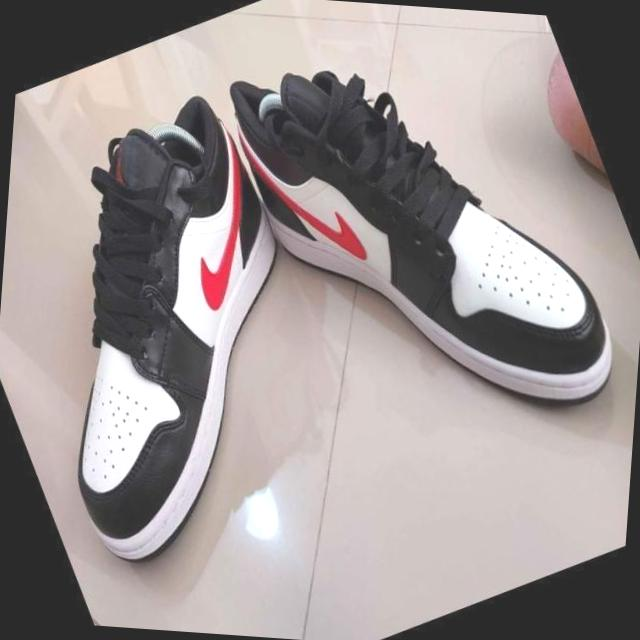nike_fake_jordan: (185, 0, 640, 507), (0, 54, 419, 595)
